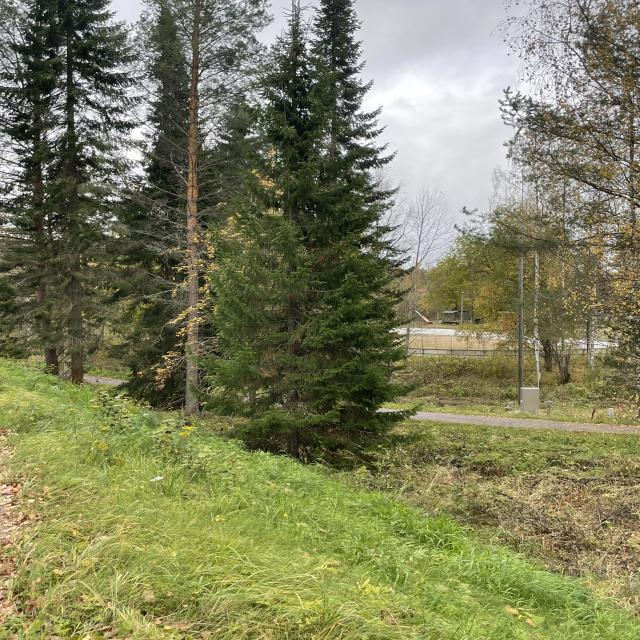spruce: (242, 9, 429, 456), (234, 1, 344, 468), (121, 9, 227, 413), (23, 2, 127, 372), (208, 176, 338, 464)
